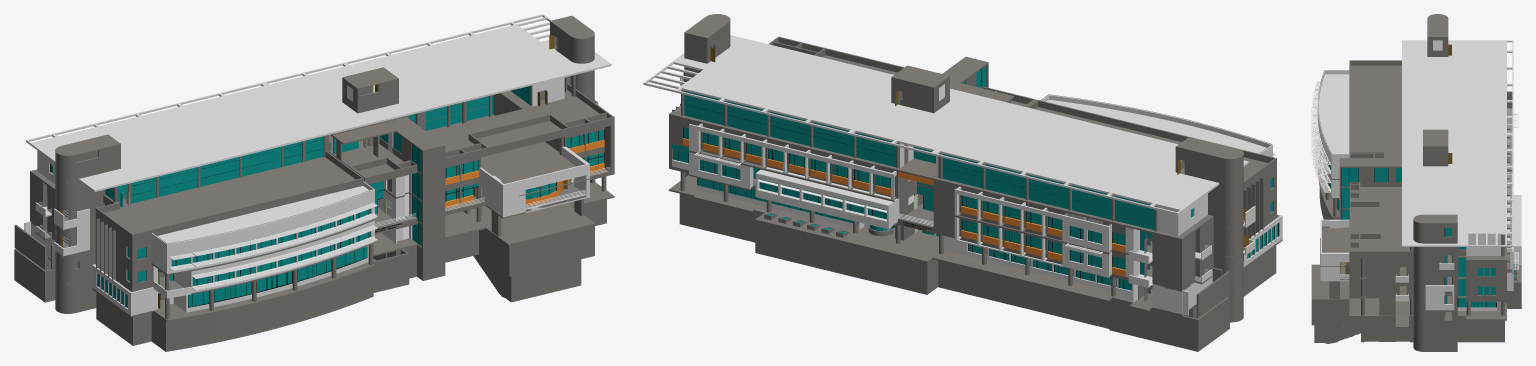
The model's file is leventis.glb.
3 views of the same model, side by side, from view 1: azimuth 30°, elevation 25°; view 2: azimuth 150°, elevation 25°; view 3: azimuth 270°, elevation 25° (orthographic). The views are drawn at different scales.
Parts seen in each view (by area): view 1: Object_1.002, Object_1523.002, Object_5338.001, Object_1522.002, Object_1464.002, Object_9632.001, Object_9041.001, Object_1466.002, Object_3855.002, Object_8301.002, Object_296.003, Object_3130.002 (+45 smaller); view 2: Object_1.002, Object_5338.001, Object_9709.001, Object_1524.002, Object_9735.001, Object_2735.002, Object_1522.002, Object_1466.002, Object_2264.002, Object_290.003, Object_1460.002, Object_1523.002 (+41 smaller); view 3: Object_1.002, Object_1523.002, Object_5338.001, Object_1522.002, Object_1464.002, Object_9694.001, Object_296.003, Object_9041.001, Object_3855.002, Object_9644.001, Object_261.003, Object_1253.002 (+47 smaller).
Boxes of the visible parts, x1,y1,x2,y2 form: Object_1.002: (26, 14, 611, 191); Object_1523.002: (95, 90, 614, 242); Object_5338.001: (46, 182, 614, 321); Object_1522.002: (151, 186, 374, 249); Object_1464.002: (445, 83, 614, 164); Object_9632.001: (509, 225, 594, 275); Object_9041.001: (473, 254, 581, 302); Object_1466.002: (95, 151, 364, 240); Object_3855.002: (481, 141, 575, 183); Object_8301.002: (188, 246, 367, 307); Object_296.003: (332, 117, 444, 151); Object_3130.002: (408, 95, 493, 130); Object_1.002: (643, 35, 1248, 214); Object_5338.001: (669, 175, 1282, 315); Object_9709.001: (755, 221, 928, 293); Object_1524.002: (669, 105, 1213, 240); Object_9735.001: (1109, 299, 1198, 350); Object_2735.002: (669, 141, 1276, 267); Object_1522.002: (1046, 99, 1272, 154); Object_1466.002: (1027, 99, 1276, 188); Object_2264.002: (755, 167, 897, 210); Object_290.003: (1184, 149, 1243, 186); Object_1460.002: (1049, 94, 1271, 147); Object_1523.002: (822, 55, 1276, 189); Object_1.002: (1402, 40, 1513, 246); Object_1523.002: (1339, 65, 1413, 257); Object_5338.001: (1311, 154, 1521, 326); Object_1522.002: (1317, 74, 1349, 158); Object_1464.002: (1349, 182, 1413, 256); Object_9694.001: (1413, 323, 1457, 350); Object_296.003: (1339, 137, 1401, 167); Object_9041.001: (1314, 325, 1360, 343); Object_3855.002: (1322, 227, 1349, 252); Object_9644.001: (1470, 320, 1501, 341); Object_261.003: (1413, 219, 1444, 243); Object_1253.002: (1466, 235, 1501, 255).
Bounding box in the file's own units: 92.84 × 30.87 × 38.74.
